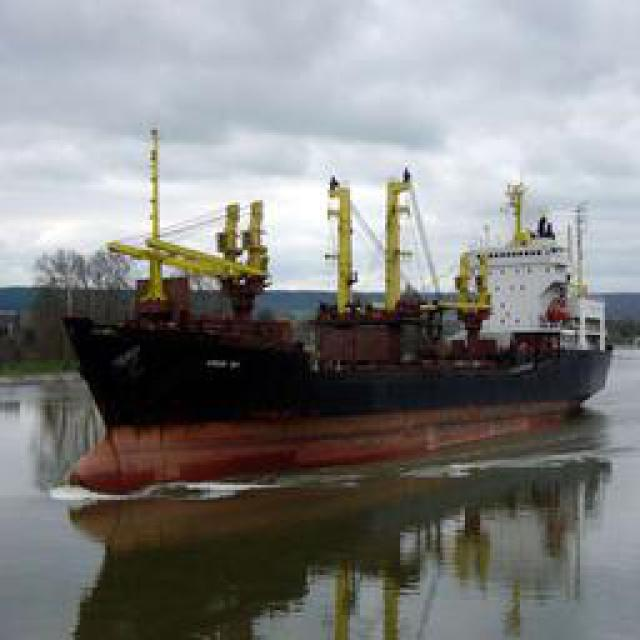Ship: (51, 189, 628, 501)
